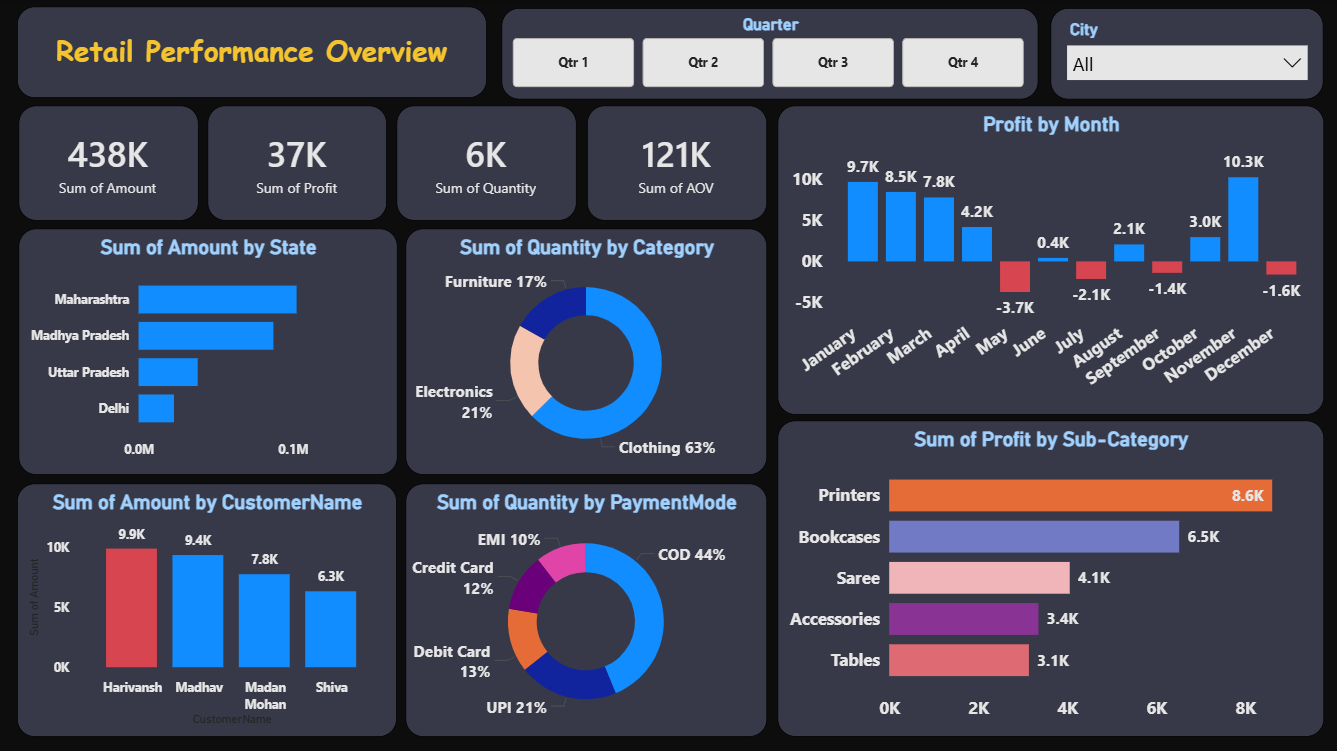

Layout of this report page (visuals, bound fields, positions):
{"tool":"powerbi","page":{"name":"Page 1","canvas":[1280,720],"ordinal":0},"visuals":[{"type":"columnChart","title":"Profit by Month","fields":{"Y":["Sum(Details.Profit)"],"Category":["Orders.Order Date.Variation.Date Hierarchy.Month"]},"box":[742.9,102.4,521.8,295.3],"z":0},{"type":"barChart","fields":{"Category":["Details.Sub-Category"],"Y":["Sum(Details.Profit)"]},"box":[742.8,402.4,521.7,302.2],"z":1000},{"type":"donutChart","fields":{"Category":["Details.Category"],"Y":["Sum(Details.Quantity)"]},"box":[388.2,219.1,345.5,235.5],"z":2000},{"type":"donutChart","fields":{"Category":["Details.PaymentMode","Details.Category"],"Y":["Sum(Details.Quantity)"]},"box":[388.1,462.9,345.2,241.8],"z":3000},{"type":"cardVisual","fields":{"Data":["Sum(Details.Amount)"]},"box":[18.2,102.4,171.8,110],"z":4000},{"type":"cardVisual","fields":{"Data":["Sum(Details.Quantity)"]},"box":[380,102.4,171.8,110],"z":5000},{"type":"cardVisual","fields":{"Data":["Sum(Details.Profit)"]},"box":[198.8,102.4,171.2,110],"z":6000},{"type":"cardVisual","fields":{"Data":["Sum(Details.AOV)"]},"box":[561.8,102.4,171.8,110],"z":7000},{"type":"barChart","fields":{"Y":["Sum(Details.Amount)"],"Category":["Orders.State"]},"box":[18.2,219.1,361.8,235.5],"z":8000},{"type":"columnChart","fields":{"Category":["Orders.CustomerName"],"Y":["Sum(Details.Amount)"]},"box":[17.5,462.9,362.7,241.8],"z":9000},{"type":"textbox","box":[17.9,7.9,448.6,87.1],"z":10000},{"type":"advancedSlicerVisual","fields":{"Values":["Orders.Order Date.Variation.Date Hierarchy.Quarter"]},"box":[480,8.2,512.7,87.3],"z":11000},{"type":"slicer","fields":{"Values":["Orders.City"]},"box":[1003.7,8,260.9,87.5],"z":12000}]}

Visuals, with their boxes in screenshot pixels (x1, y1, x2, y2), scaled from the page's 1280x720 canvas onto the 1337x751 screenshot:
"Profit by Month" columnChart: x1=776 y1=107 x2=1321 y2=415
barChart - Details.Sub-Category x Sum(Details.Profit): x1=776 y1=420 x2=1321 y2=735
donutChart - Details.Category x Sum(Details.Quantity): x1=405 y1=229 x2=766 y2=474
donutChart - Details.PaymentMode x Details.Category: x1=405 y1=483 x2=766 y2=735
cardVisual - Sum(Details.Amount): x1=19 y1=107 x2=198 y2=222
cardVisual - Sum(Details.Quantity): x1=397 y1=107 x2=576 y2=222
cardVisual - Sum(Details.Profit): x1=208 y1=107 x2=386 y2=222
cardVisual - Sum(Details.AOV): x1=587 y1=107 x2=766 y2=222
barChart - Sum(Details.Amount) x Orders.State: x1=19 y1=229 x2=397 y2=474
columnChart - Orders.CustomerName x Sum(Details.Amount): x1=18 y1=483 x2=397 y2=735
textbox: x1=19 y1=8 x2=487 y2=99
advancedSlicerVisual - Orders.Order Date.Variation.Date Hierarchy.Quarter: x1=501 y1=9 x2=1037 y2=100
slicer - Orders.City: x1=1048 y1=8 x2=1321 y2=100
